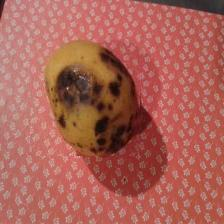Mango Semirotten: (31, 35, 143, 156)
